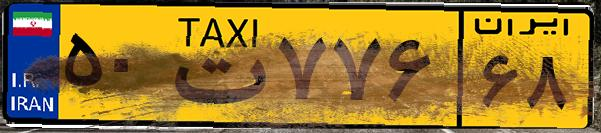0: (110, 28, 158, 98)
5: (57, 26, 110, 100)
6: (385, 28, 445, 110), (475, 38, 525, 113)
7: (270, 28, 330, 110), (330, 28, 385, 110)
8: (525, 38, 570, 115)
ت: (158, 12, 270, 120)
